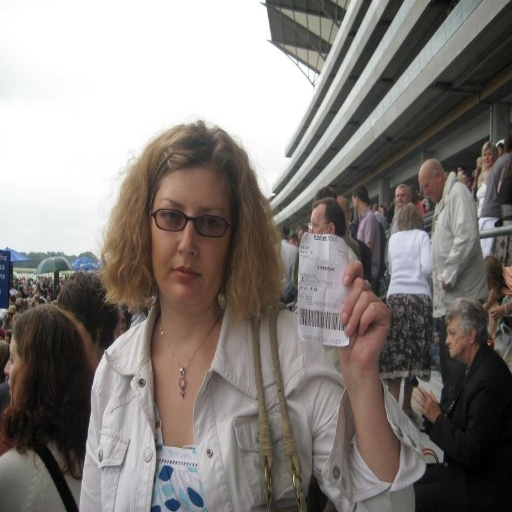hand: (335, 259, 391, 369), (411, 378, 442, 425), (439, 274, 453, 295), (490, 302, 504, 323)
